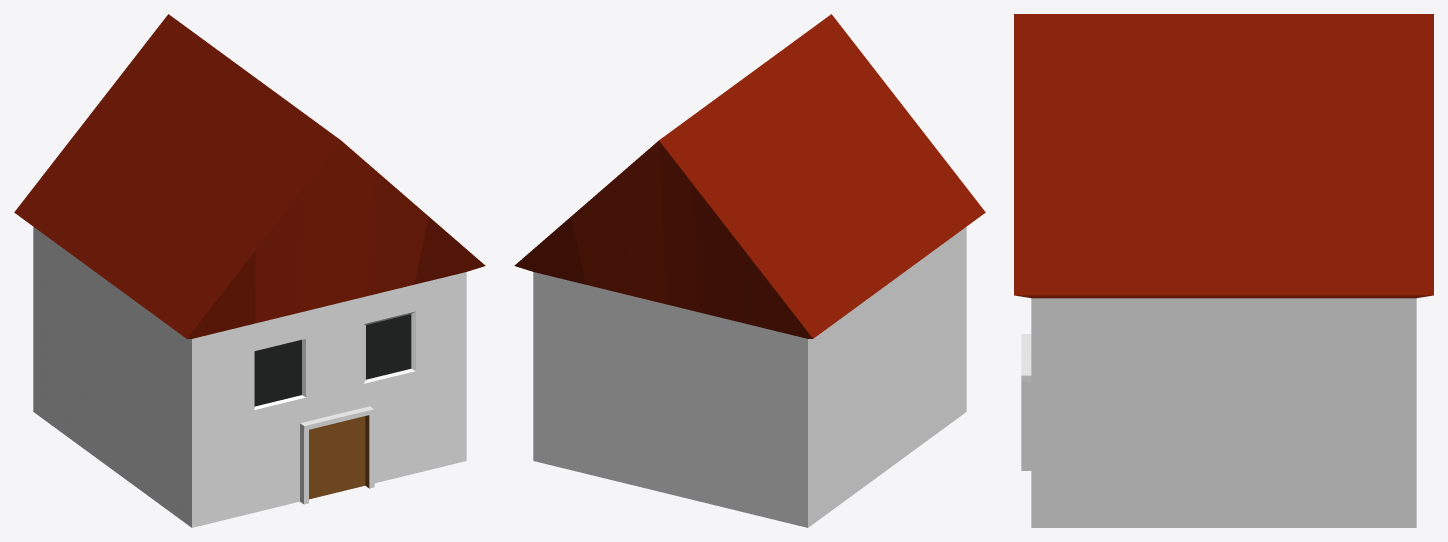
The model's file is House.glb.
The picture shows the model from 3 angles, left to right: view 1: azimuth 30°, elevation 25°; view 2: azimuth 150°, elevation 25°; view 3: azimuth 270°, elevation 25°; orthographic projection. The views are drawn at different scales.
Visible parts, largest first — view 1: Cube; view 2: Cube; view 3: Cube.
Part boxes in pixels (box(x1,y1,x2,y2)): Cube: box(14, 14, 485, 527); Cube: box(514, 14, 985, 527); Cube: box(1014, 14, 1433, 527).
Bounding box in the file's own units: 2.18 × 2.49 × 2.18.
